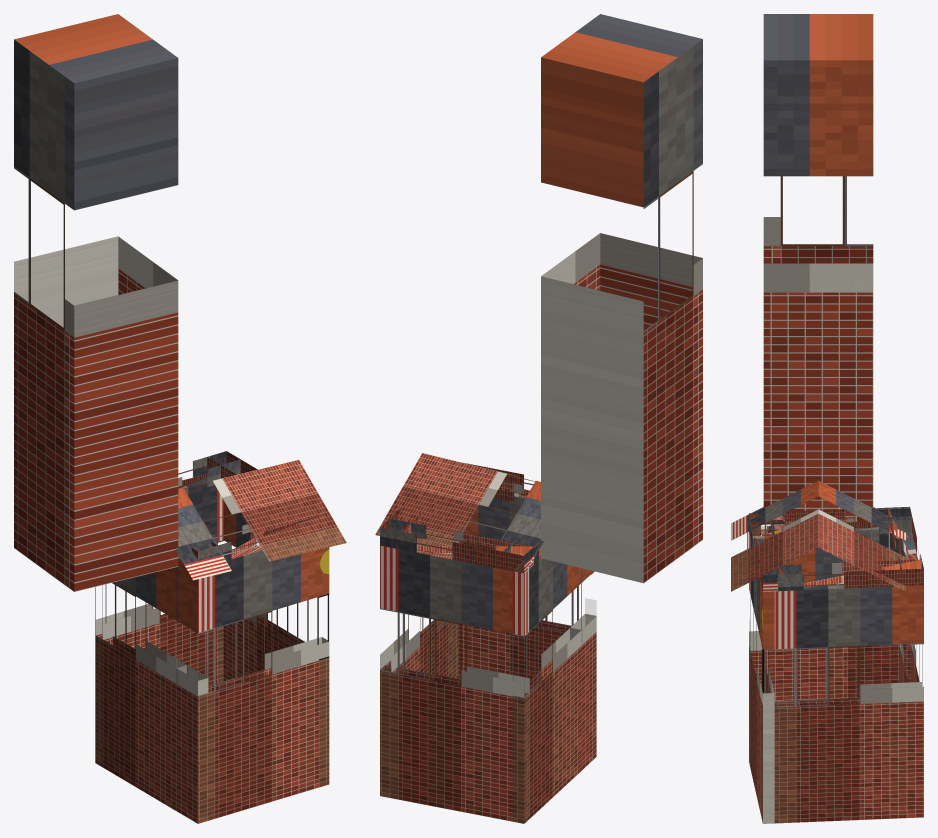
3 views of the same model, side by side, from view 1: azimuth 30°, elevation 25°; view 2: azimuth 150°, elevation 25°; view 3: azimuth 270°, elevation 25° (orthographic). The views are drawn at different scales.
Parts seen in each view (by area): view 1: 238563119__chimney_0_xb, 238563119__wall_1_xb, 238563119__wall_4_xb, 238563119_roof_-1_xb, 238563119__wall_3_xb, 238563119__wall_2_xb, 238563119__wall_0_xb, 238563119__cornice_1, 238563119__cornice_3, 238563119__cornice_2; view 2: 238563119__chimney_0_xb, 238563119__wall_3_xb, 238563119__wall_4_xb, 238563119_roof_1_xb, 238563119__wall_1_xb, 238563119__cornice_3, 238563119__wall_2_xb, 238563119__wall_0_xb, 238563119__cornice_1; view 3: 238563119__chimney_0_xb, 238563119__wall_2_xb, 238563119__wall_4_xb, 238563119__wall_1_xb, 238563119_roof_-1_xb, 238563119_roof_1_xb, 238563119__cornice_2, 238563119__wall_0_xb, 238563119__cornice_4, 238563119__wall_3_xb, 238563119__cornice_1, 238563119__cornice_3 (+1 smaller).
Boxes of the visible parts, x1=… form: 238563119__chimney_0_xb: x1=14, y1=14, x2=178, y2=591; 238563119__wall_1_xb: x1=190, y1=547, x2=329, y2=823; 238563119__wall_4_xb: x1=95, y1=567, x2=186, y2=810; 238563119_roof_-1_xb: x1=175, y1=459, x2=346, y2=580; 238563119__wall_3_xb: x1=95, y1=477, x2=224, y2=766; 238563119__wall_2_xb: x1=223, y1=500, x2=329, y2=787; 238563119__wall_0_xb: x1=176, y1=558, x2=208, y2=823; 238563119__cornice_1: x1=198, y1=512, x2=329, y2=560; 238563119__cornice_3: x1=178, y1=456, x2=240, y2=488; 238563119__cornice_2: x1=207, y1=451, x2=309, y2=517; 238563119__chimney_0_xb: x1=541, y1=14, x2=702, y2=583; 238563119__wall_3_xb: x1=380, y1=545, x2=529, y2=823; 238563119__wall_4_xb: x1=512, y1=558, x2=581, y2=823; 238563119_roof_1_xb: x1=375, y1=453, x2=543, y2=571; 238563119__wall_1_xb: x1=458, y1=496, x2=594, y2=679; 238563119__cornice_3: x1=380, y1=518, x2=533, y2=572; 238563119__wall_2_xb: x1=380, y1=541, x2=458, y2=678; 238563119__wall_0_xb: x1=570, y1=568, x2=596, y2=770; 238563119__cornice_1: x1=463, y1=462, x2=533, y2=501; 238563119__chimney_0_xb: x1=763, y1=14, x2=873, y2=524; 238563119__wall_2_xb: x1=761, y1=584, x2=923, y2=823; 238563119__wall_4_xb: x1=783, y1=527, x2=910, y2=700; 238563119__wall_1_xb: x1=749, y1=532, x2=774, y2=823; 238563119_roof_-1_xb: x1=731, y1=481, x2=818, y2=591; 238563119_roof_1_xb: x1=818, y1=481, x2=905, y2=591; 238563119__cornice_2: x1=761, y1=559, x2=923, y2=591; 238563119__wall_0_xb: x1=749, y1=529, x2=783, y2=701; 238563119__cornice_4: x1=783, y1=506, x2=911, y2=533; 238563119__wall_3_xb: x1=899, y1=532, x2=923, y2=682; 238563119__cornice_1: x1=749, y1=514, x2=784, y2=591; 238563119__cornice_3: x1=888, y1=507, x2=921, y2=569.
Bounding box in the file's own units: 0.367 × 1.05 × 0.2635.
1 material, 1 textured.
